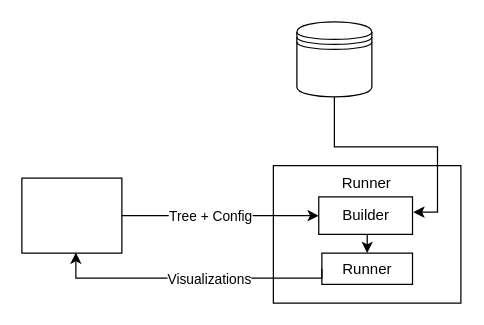
The diagram is 484 pixels wide and 325 high, and some of its shapes have lost their labels. Each missing label, with the centre of its shape:
"MLFlow" belongs at (x=334, y=59).
"UI" belongs at (x=71, y=215).
